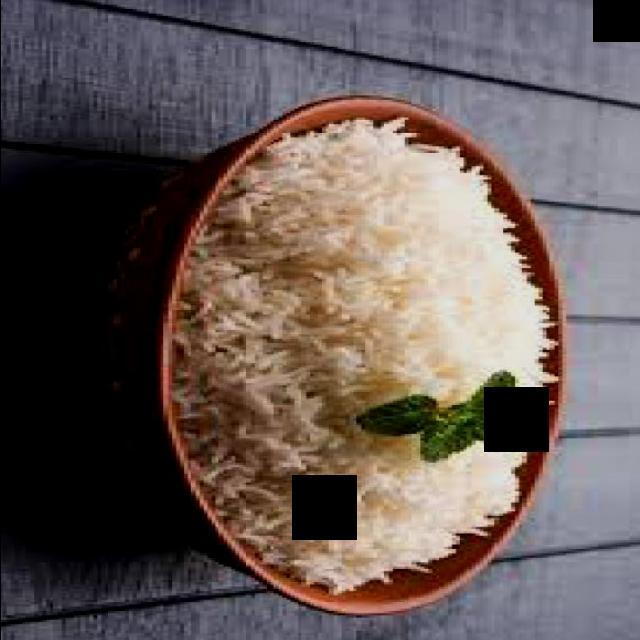Chicken -Chicken Inasal-: (175, 136, 550, 588)
